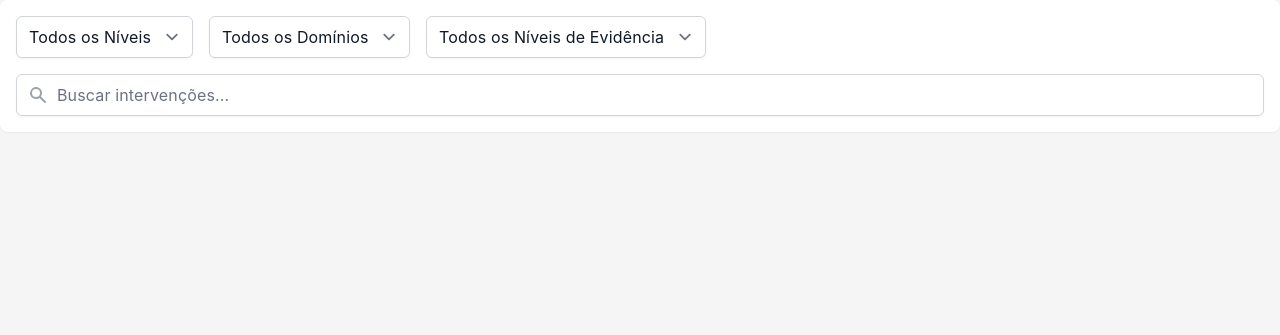
Test: InterventionGallery › filtra por nível de evidência
Select "Alta Evidência" in the dropdown with test id "evidence-select": (566, 37) [426,16,706,58]
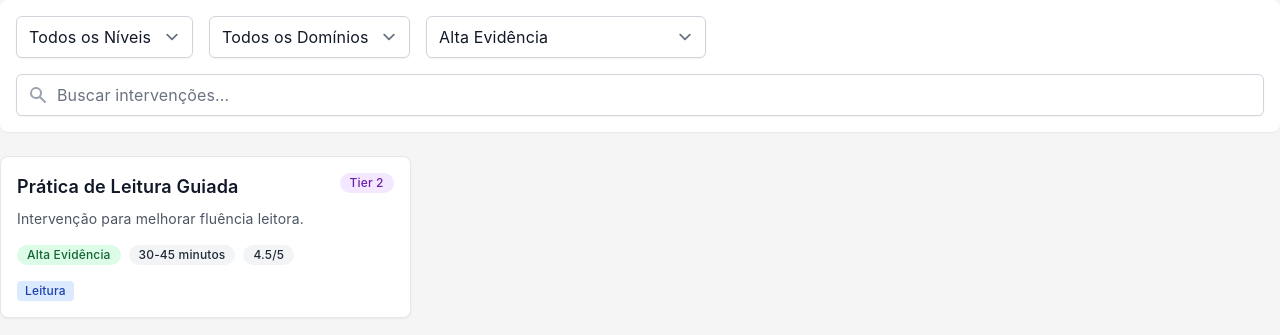
Check: the heading "Prática de Leitura Guiada" is shown, box [17,173,239,201]
